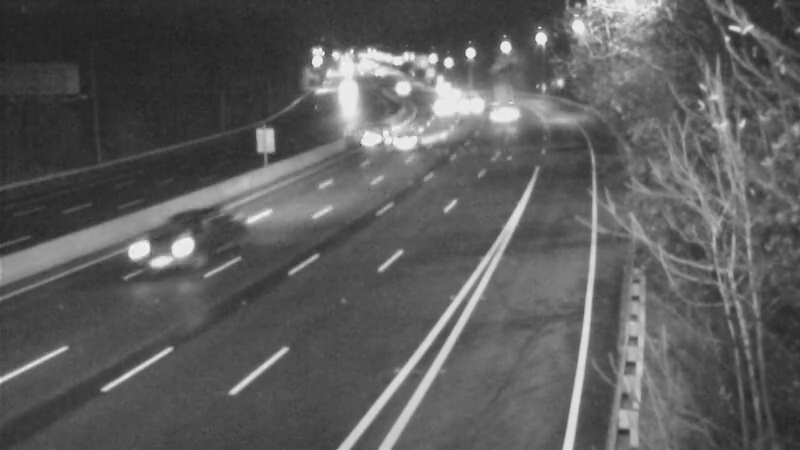vehicle: (124, 210, 204, 290), (416, 59, 466, 109), (375, 63, 425, 113), (424, 71, 474, 121), (419, 79, 469, 129), (443, 83, 493, 133), (477, 80, 527, 130), (381, 110, 431, 160), (356, 105, 406, 155)
